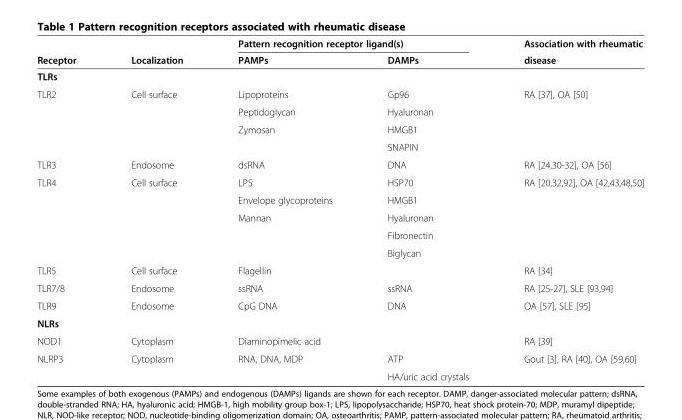table: (36, 37, 643, 381)
table column: (209, 37, 359, 381), (495, 37, 643, 381), (359, 37, 495, 381), (102, 37, 209, 381), (36, 37, 102, 381)
table column header: (36, 37, 643, 67)
table projected row header: (36, 67, 643, 85), (36, 314, 643, 331)
table row: (36, 67, 643, 85), (36, 102, 643, 120), (36, 137, 643, 155), (36, 155, 643, 173), (36, 190, 643, 208), (36, 208, 643, 226), (36, 243, 643, 261), (36, 261, 643, 279), (36, 296, 643, 314), (36, 331, 643, 349), (36, 349, 643, 367), (36, 85, 643, 102), (36, 120, 643, 137), (36, 173, 643, 190), (36, 226, 643, 243), (36, 279, 643, 296), (36, 314, 643, 331), (36, 51, 643, 67), (36, 37, 643, 51), (36, 367, 643, 381)
table spanning cell: (495, 173, 643, 261), (495, 85, 643, 155), (102, 173, 209, 261), (209, 208, 359, 261), (102, 85, 209, 155), (36, 173, 102, 261), (209, 120, 359, 155), (209, 349, 359, 381), (495, 349, 643, 381), (36, 85, 102, 155), (495, 37, 643, 67), (209, 37, 495, 51), (102, 349, 209, 381), (102, 37, 209, 67), (36, 349, 102, 381), (36, 37, 102, 67)
